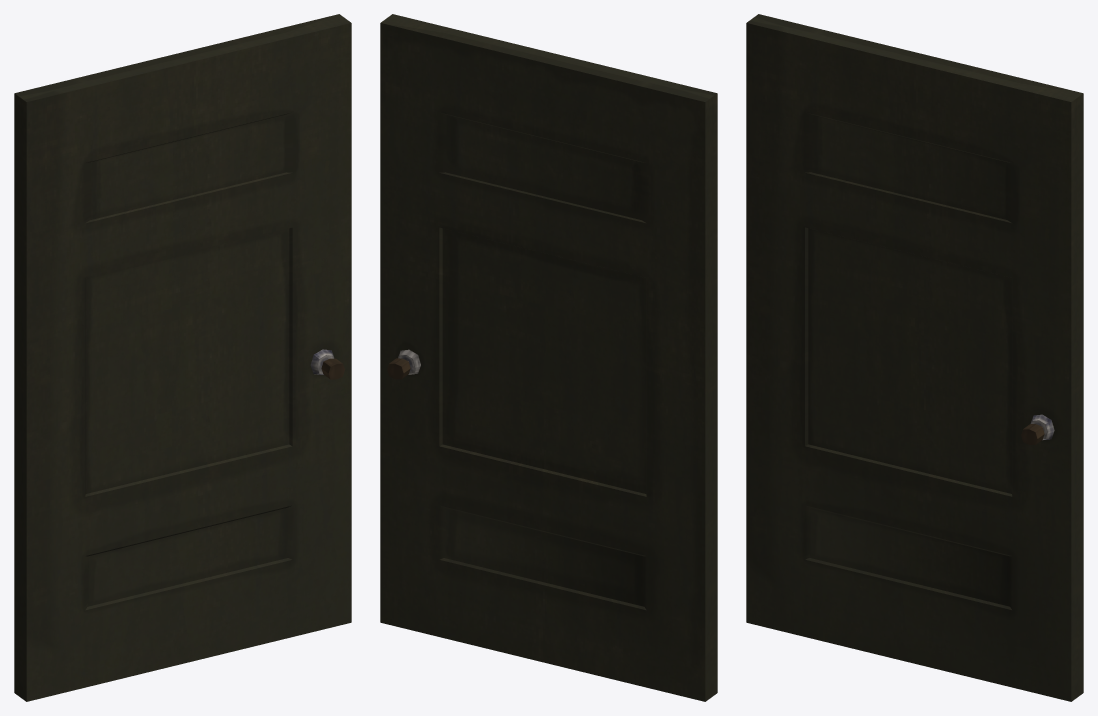
The model's file is DecorDoor.fbx.
3 views of the same model, side by side, from view 1: azimuth 30°, elevation 25°; view 2: azimuth 150°, elevation 25°; view 3: azimuth 330°, elevation 25° (orthographic).
Parts seen in each view (by area): view 1: Cube.049; view 2: Cube.049; view 3: Cube.049.
Part boxes in pixels (x1=…): Cube.049: x1=14, y1=14, x2=351, y2=701; Cube.049: x1=380, y1=14, x2=717, y2=701; Cube.049: x1=746, y1=14, x2=1083, y2=701.
Size of the model in its own units: 330 by 582 by 69.11.
1 material, 1 textured.
